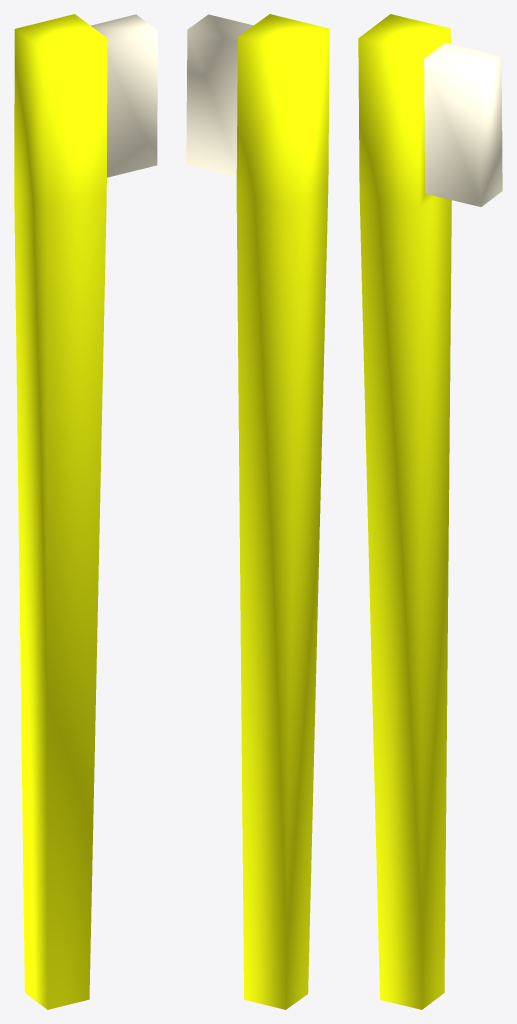
The model's file is ToothBrush.003.glb.
The picture shows the model from 3 angles, left to right: view 1: azimuth 30°, elevation 25°; view 2: azimuth 150°, elevation 25°; view 3: azimuth 330°, elevation 25°; orthographic projection.
Parts seen in each view (by area): view 1: ToothBrush.003; view 2: ToothBrush.003; view 3: ToothBrush.003.
Boxes of the visible parts, x1,y1,x2,y2 form: ToothBrush.003: (14,14,157,1009); ToothBrush.003: (186,14,329,1009); ToothBrush.003: (358,14,502,1009).
Bounding box in the file's own units: 0.0328 × 0.2598 × 0.0163.
1 material, 1 textured.
